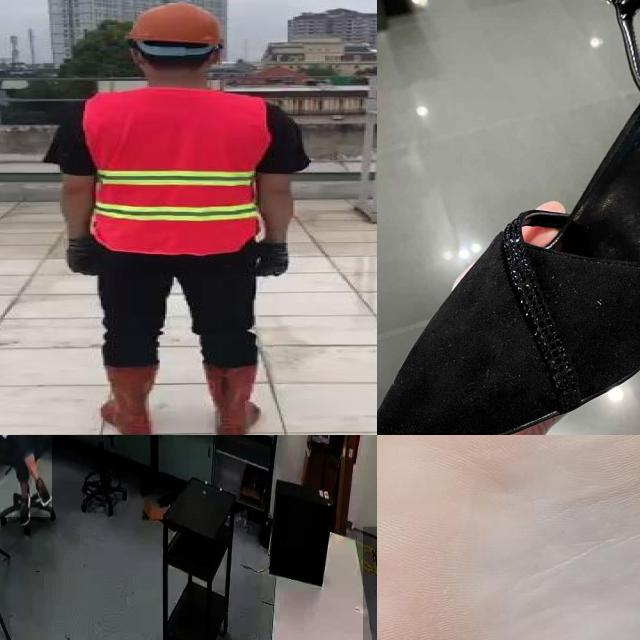Barefoots: (377, 435, 640, 640)
Sandals: (377, 0, 640, 435)
boots: (198, 362, 266, 435), (103, 364, 167, 435)
hand_glove: (67, 234, 110, 279), (256, 244, 291, 277)
head_helmet: (123, 0, 224, 48)
person: (49, 0, 314, 435), (0, 435, 52, 517)
shoes: (32, 471, 54, 514), (16, 490, 32, 528)
vest: (87, 94, 270, 250)
